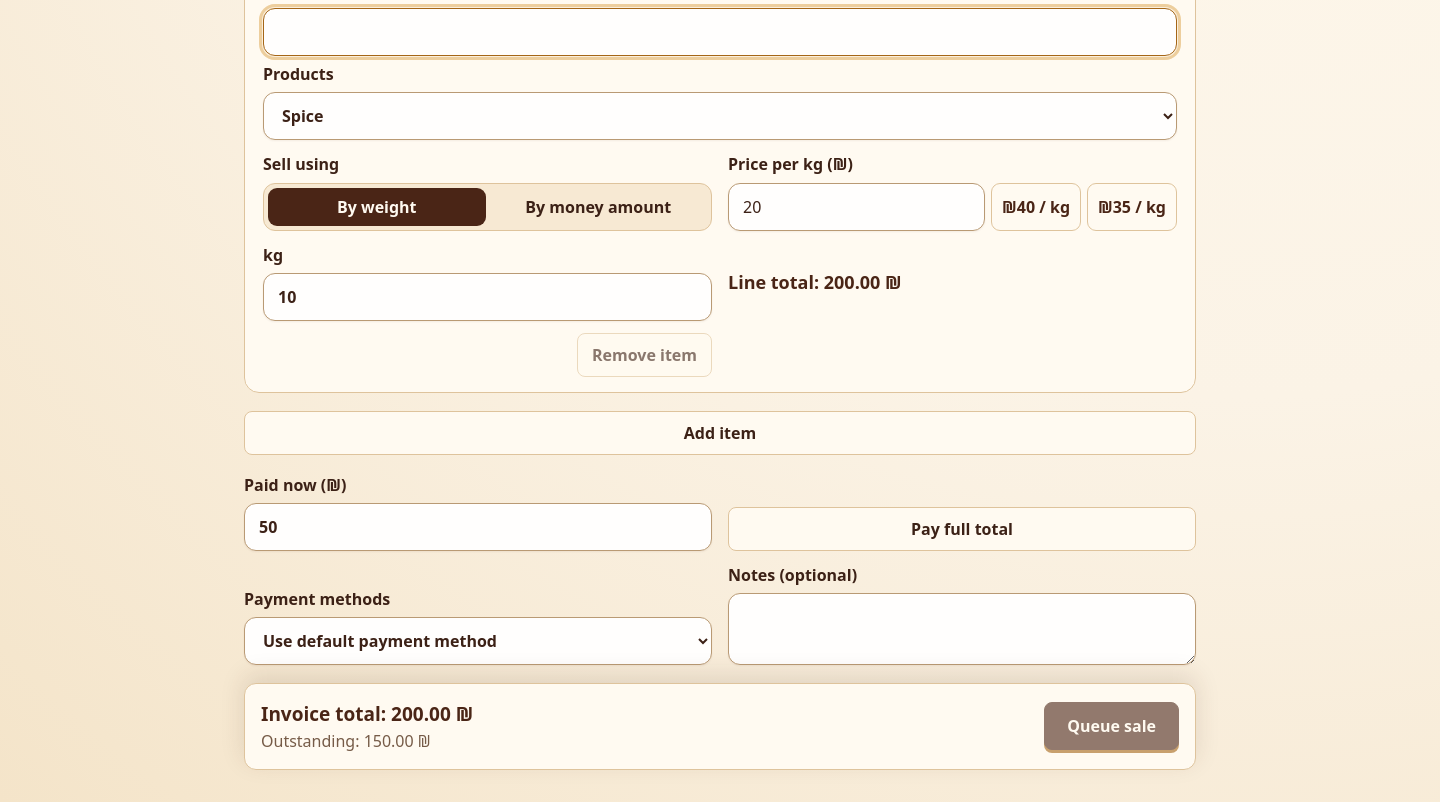
walk-in sale requires full payment before saving
(page scrolled)
expect the button "Queue sale" is disabled: met, box [1044, 702, 1179, 750]
Click the button "Pay full total": (962, 529) [728, 507, 1196, 551]
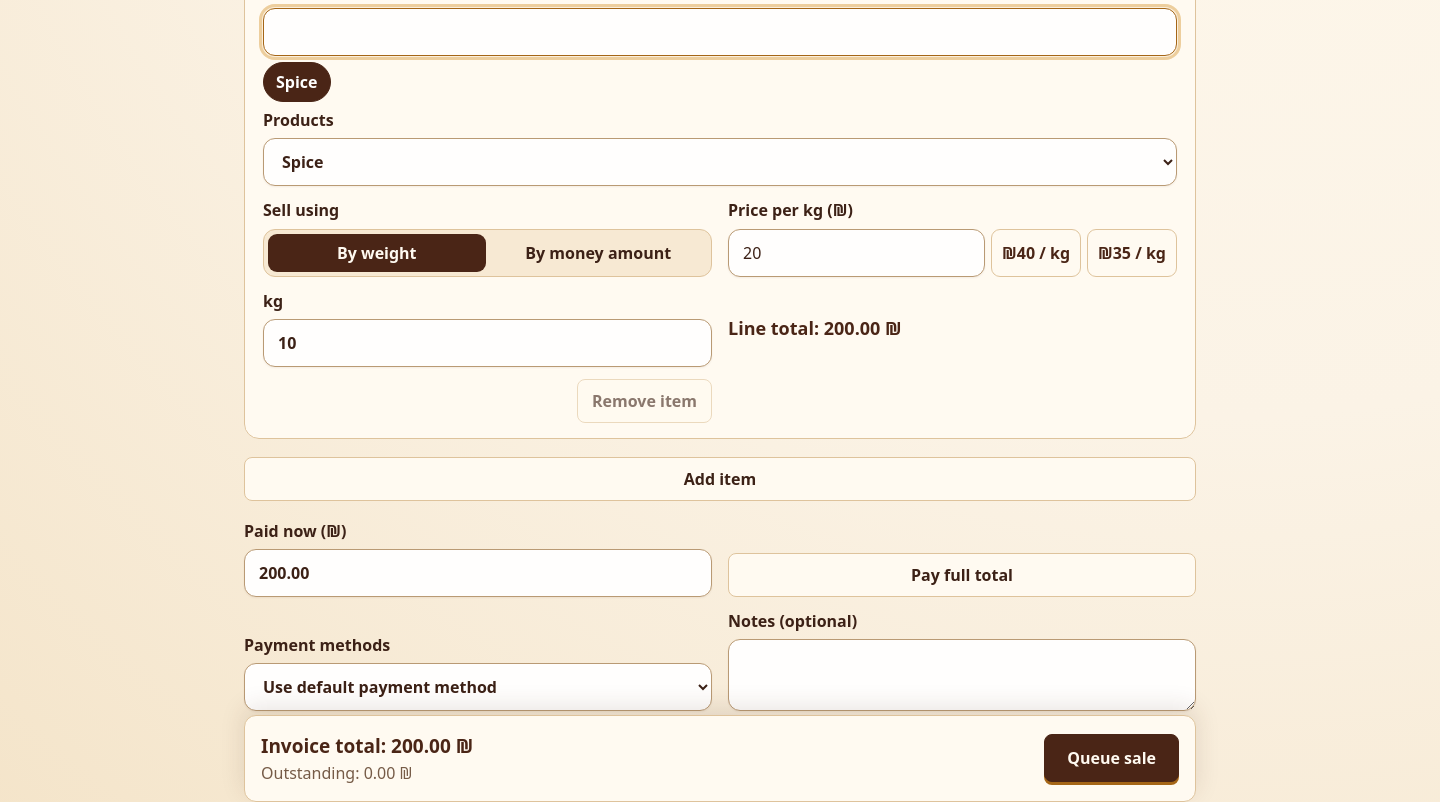
expect the button "Queue sale" is enabled: met, box [1044, 735, 1179, 783]
